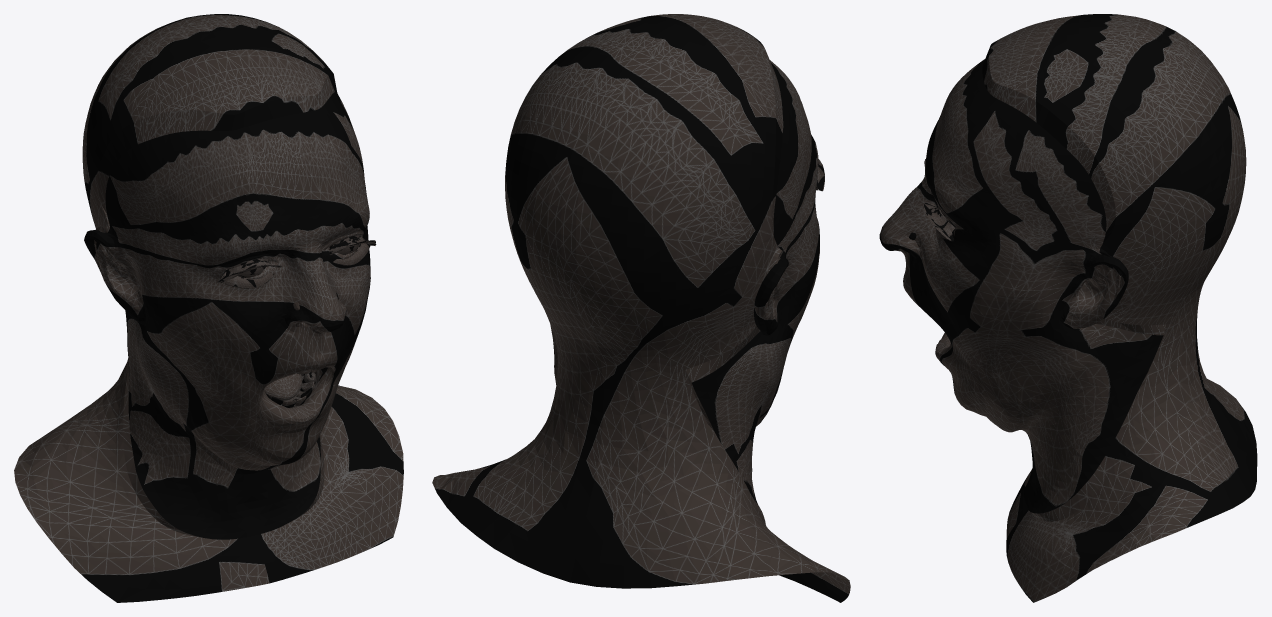
Rendered from ict_mediapipe_M_GumsTongue_textured.obj.
The picture shows the model from 3 angles, left to right: view 1: azimuth 30°, elevation 25°; view 2: azimuth 150°, elevation 25°; view 3: azimuth 270°, elevation 25°; orthographic projection. The views are drawn at different scales.
Size of the model in its own units: 1.02 by 1.38 by 0.9253.
Materials: 1 (1 with a texture image).
